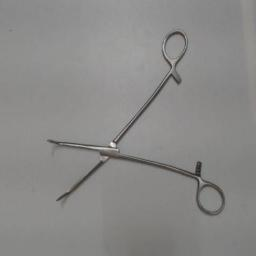Lahey Forceps: (42, 24, 230, 220)
